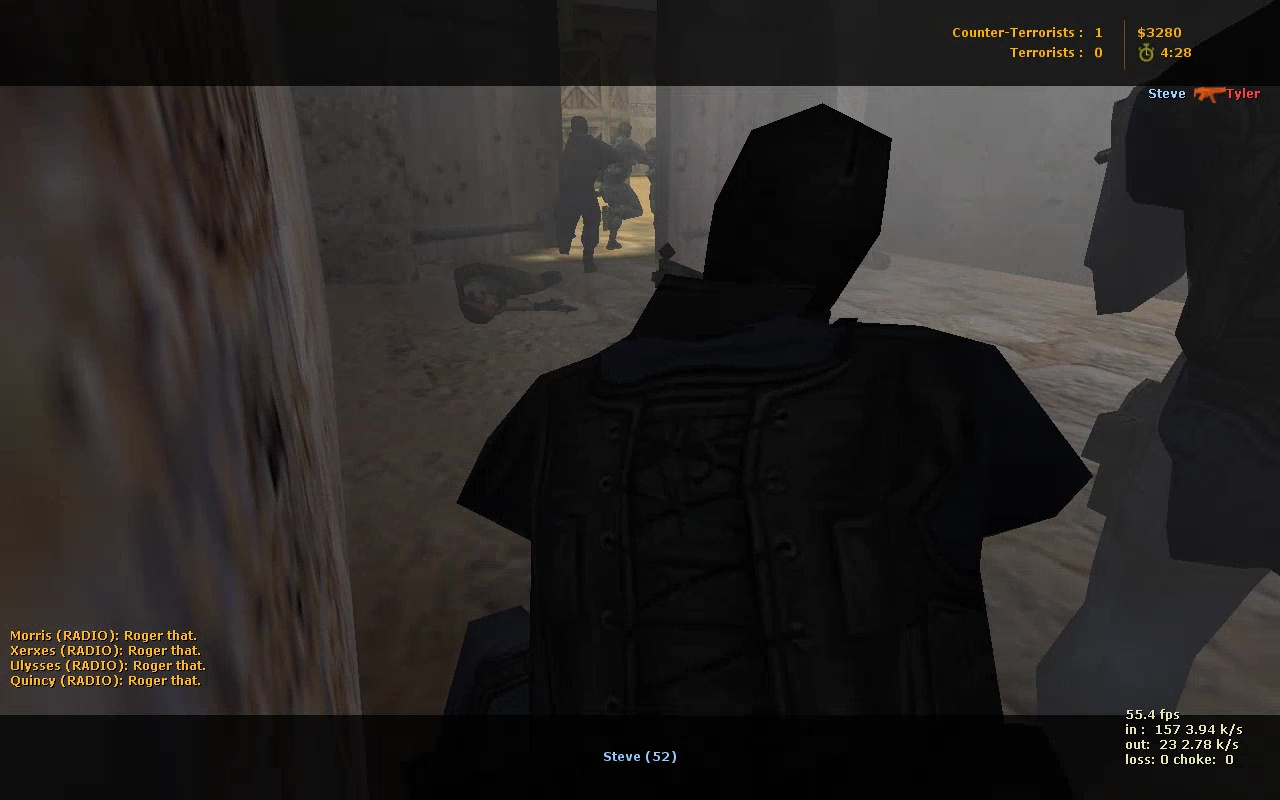ct: (553, 115, 623, 264), (599, 122, 653, 251)
dead: (447, 261, 577, 318)
